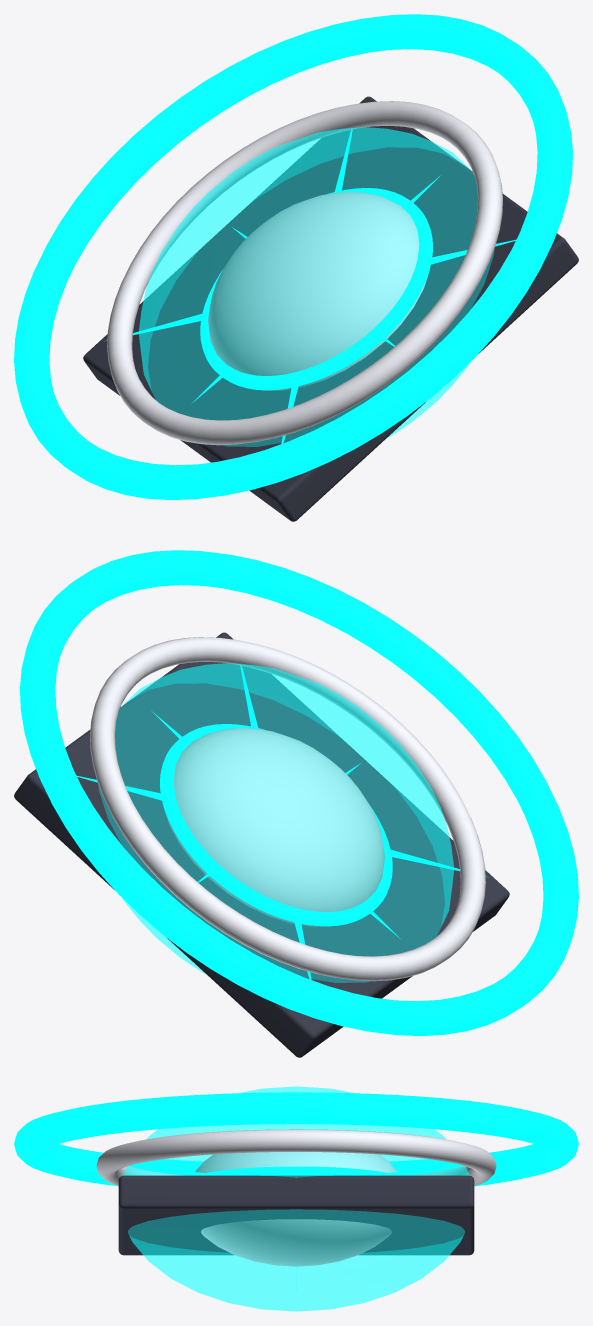
Rendered from OrbitalLauncher_Impact.fbx.
The picture shows the model from 3 angles, top to bottom: view 1: azimuth 30°, elevation 25°; view 2: azimuth 150°, elevation 25°; view 3: azimuth 270°, elevation 25°; orthographic projection. The views are drawn at different scales.
Visible parts, largest first — view 1: OrbitalLauncher_Impact_Pro_Glass_cyan_0.35, OrbitalLauncher_Impact_Pro_Glow_cyan_12, OrbitalLauncher_Impact_Pro_Plastic_Grey, OrbitalLauncher_Impact_Pro_Glow_white_20, OrbitalLauncher_Impact_Pro_Glow_white_12, OrbitalLauncher_Impact_Pro_Glow_cyan_16; view 2: OrbitalLauncher_Impact_Pro_Glass_cyan_0.35, OrbitalLauncher_Impact_Pro_Glow_cyan_12, OrbitalLauncher_Impact_Pro_Plastic_Grey, OrbitalLauncher_Impact_Pro_Glow_white_20, OrbitalLauncher_Impact_Pro_Glow_white_12, OrbitalLauncher_Impact_Pro_Glow_cyan_16; view 3: OrbitalLauncher_Impact_Pro_Glass_cyan_0.35, OrbitalLauncher_Impact_Pro_Glow_cyan_12, OrbitalLauncher_Impact_Pro_Plastic_Grey, OrbitalLauncher_Impact_Pro_Glow_white_12, OrbitalLauncher_Impact_Pro_Glow_white_20, OrbitalLauncher_Impact_Pro_Glow_cyan_16.
Boxes of the visible parts, x1,y1,x2,y2 form: OrbitalLauncher_Impact_Pro_Glass_cyan_0.35: (138,127,494,446); OrbitalLauncher_Impact_Pro_Glow_cyan_12: (14,14,572,499); OrbitalLauncher_Impact_Pro_Plastic_Grey: (83,96,578,521); OrbitalLauncher_Impact_Pro_Glow_white_20: (208,192,429,390); OrbitalLauncher_Impact_Pro_Glow_white_12: (107,101,502,445); OrbitalLauncher_Impact_Pro_Glow_cyan_16: (104,130,515,443); OrbitalLauncher_Impact_Pro_Glass_cyan_0.35: (98,663,454,982); OrbitalLauncher_Impact_Pro_Glow_cyan_12: (20,550,578,1035); OrbitalLauncher_Impact_Pro_Plastic_Grey: (14,632,509,1057); OrbitalLauncher_Impact_Pro_Glow_white_20: (163,728,384,926); OrbitalLauncher_Impact_Pro_Glow_white_12: (90,637,485,981); OrbitalLauncher_Impact_Pro_Glow_cyan_16: (77,666,488,979); OrbitalLauncher_Impact_Pro_Glass_cyan_0.35: (123,1086,469,1311); OrbitalLauncher_Impact_Pro_Glow_cyan_12: (14,1092,578,1186); OrbitalLauncher_Impact_Pro_Plastic_Grey: (118,1175,474,1255); OrbitalLauncher_Impact_Pro_Glow_white_12: (96,1129,496,1185); OrbitalLauncher_Impact_Pro_Glow_white_20: (195,1152,397,1266); OrbitalLauncher_Impact_Pro_Glow_cyan_16: (141,1167,451,1175).
Bounding box in the file's own units: 0.4327 × 0.3068 × 0.5088.
